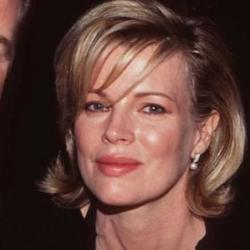face: (37, 3, 238, 217)
